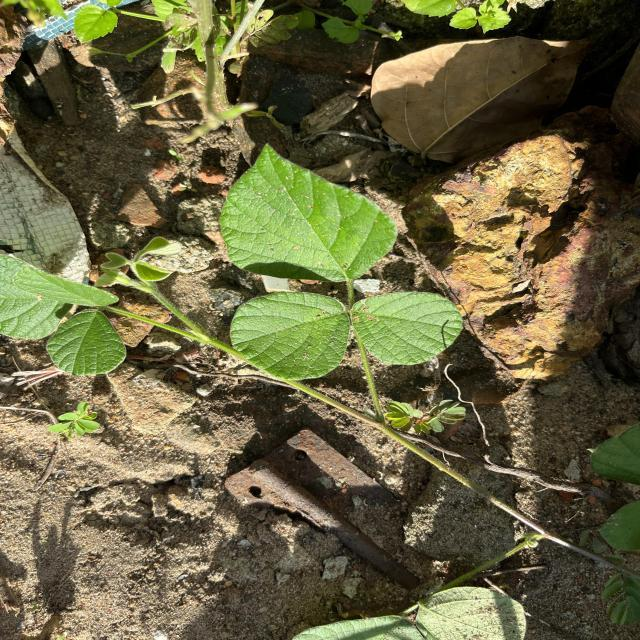Pseudarthria viscida: (218, 140, 466, 382)
